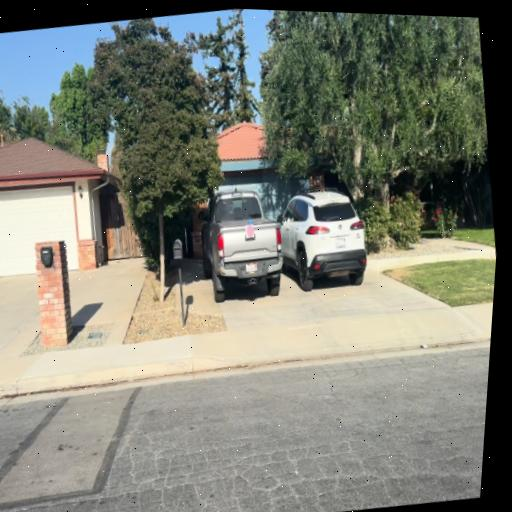bullseye: (246, 224, 255, 238)
